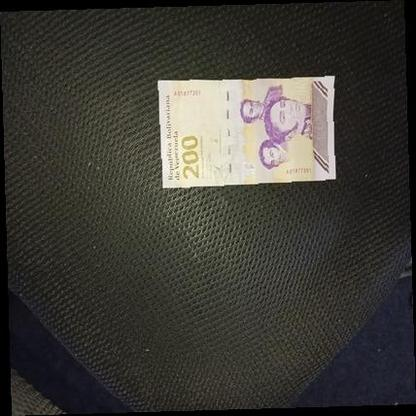two_hundred-front-vef: (158, 75, 336, 188)
